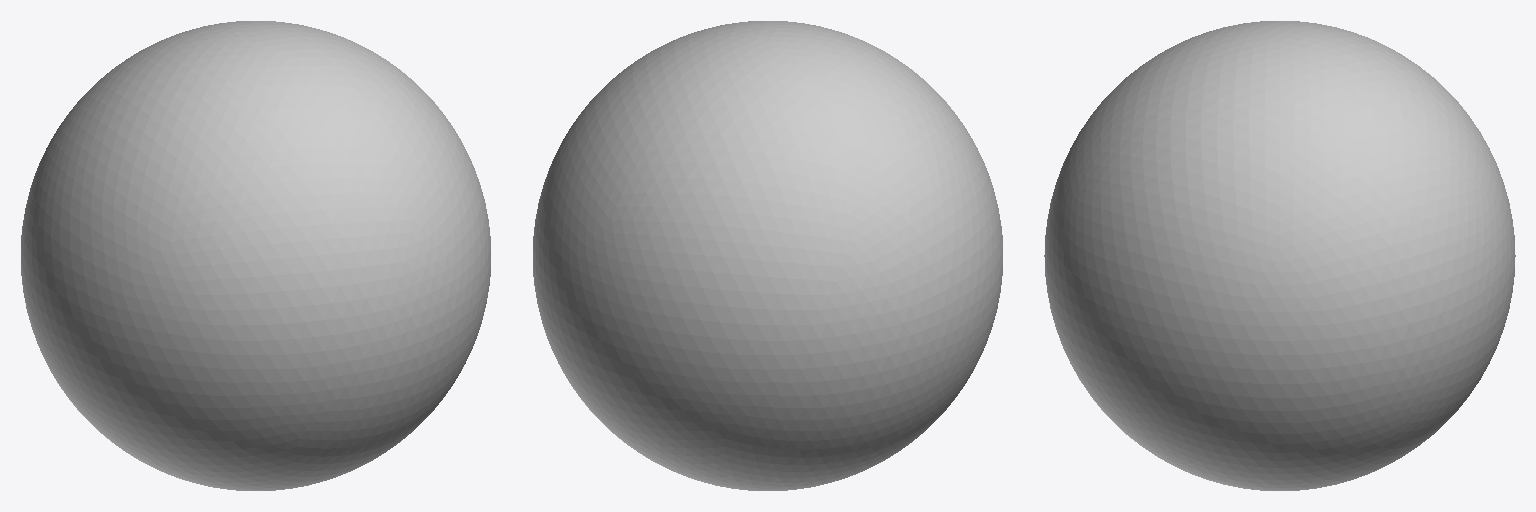
Rendered from clouds_0.obj.
3 views of the same model, side by side, from view 1: azimuth 30°, elevation 25°; view 2: azimuth 150°, elevation 25°; view 3: azimuth 270°, elevation 25° (orthographic).
Visible parts, largest first — view 1: Icosphere.025; view 2: Icosphere.025; view 3: Icosphere.025.
Boxes of the visible parts, box(x1,y1,x2,y2) form: Icosphere.025: box(21, 21, 490, 490); Icosphere.025: box(533, 21, 1002, 490); Icosphere.025: box(1044, 21, 1515, 490).
Bounding box in the file's own units: 21.66 × 21.66 × 21.66.